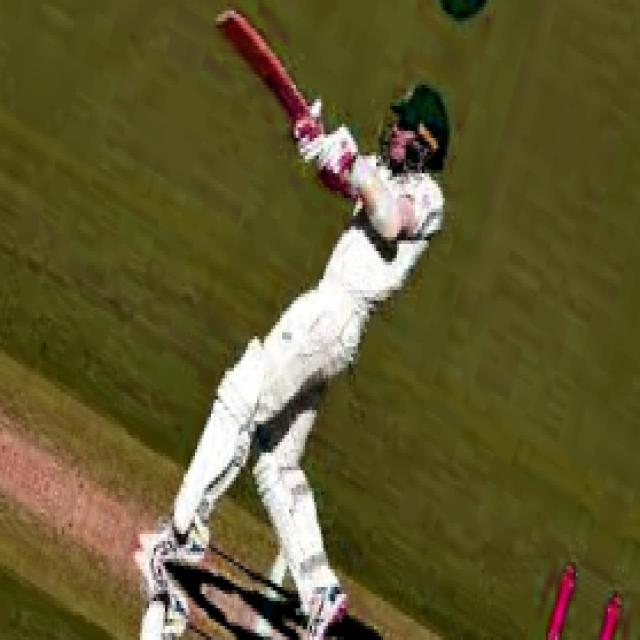toe: (208, 11, 242, 31)
